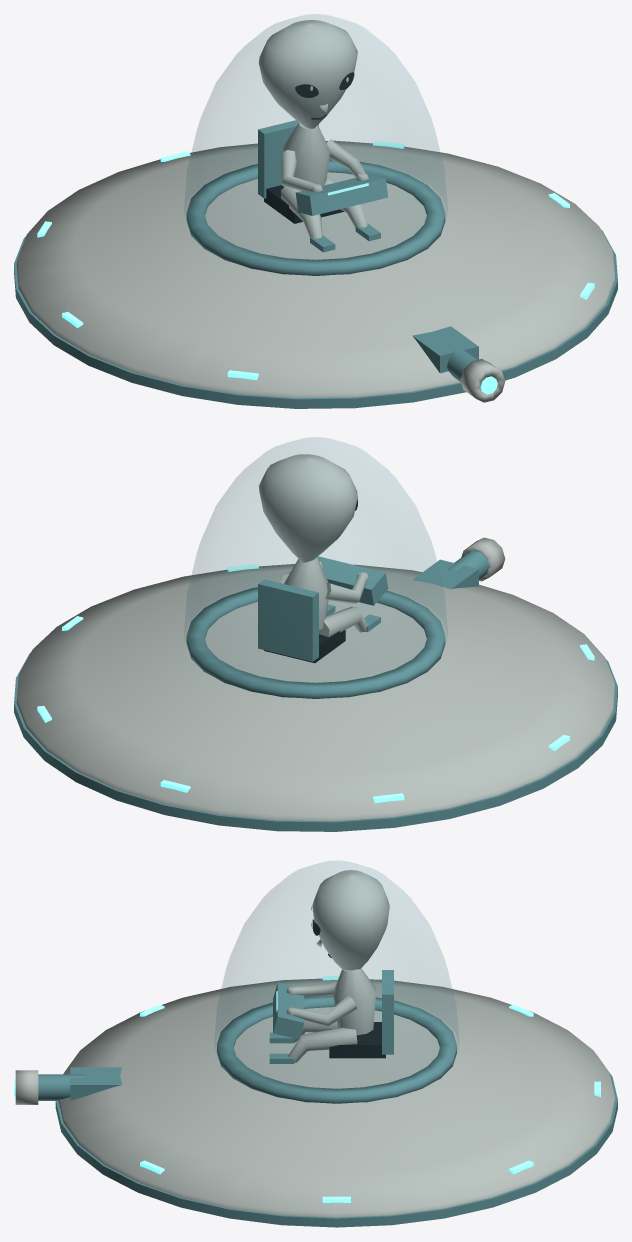
File: Scout_Saucer.glb
3 views of the same model, one above another, from view 1: azimuth 30°, elevation 25°; view 2: azimuth 150°, elevation 25°; view 3: azimuth 270°, elevation 25° (orthographic). The views are drawn at different scales.
Visible parts, largest first — view 1: Scout_Saucer_Mesh, Scout_Saucer_Canopy; view 2: Scout_Saucer_Mesh, Scout_Saucer_Canopy; view 3: Scout_Saucer_Mesh, Scout_Saucer_Canopy.
Part boxes in pixels (x1=…): Scout_Saucer_Mesh: x1=14, y1=20, x2=617, y2=408; Scout_Saucer_Canopy: x1=184, y1=14, x2=447, y2=211; Scout_Saucer_Mesh: x1=14, y1=454, x2=617, y2=831; Scout_Saucer_Canopy: x1=184, y1=437, x2=447, y2=634; Scout_Saucer_Mesh: x1=14, y1=870, x2=617, y2=1227; Scout_Saucer_Canopy: x1=214, y1=860, x2=459, y2=1045.
Bounding box in the file's own units: 2.97 × 1.63 × 3.19.
